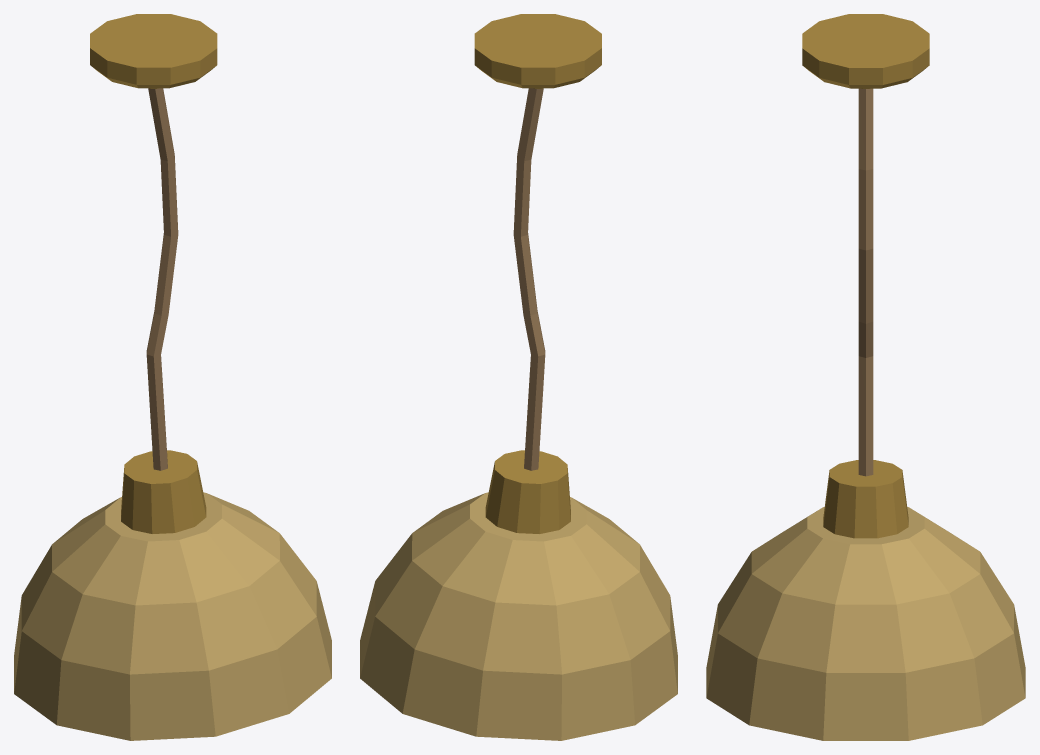
The model's file is ceiling-pendant-d21307.glb.
3 views of the same model, side by side, from view 1: azimuth 30°, elevation 25°; view 2: azimuth 150°, elevation 25°; view 3: azimuth 270°, elevation 25° (orthographic).
Bounding box in the file's own units: 0.2699 × 0.6 × 0.2704.
